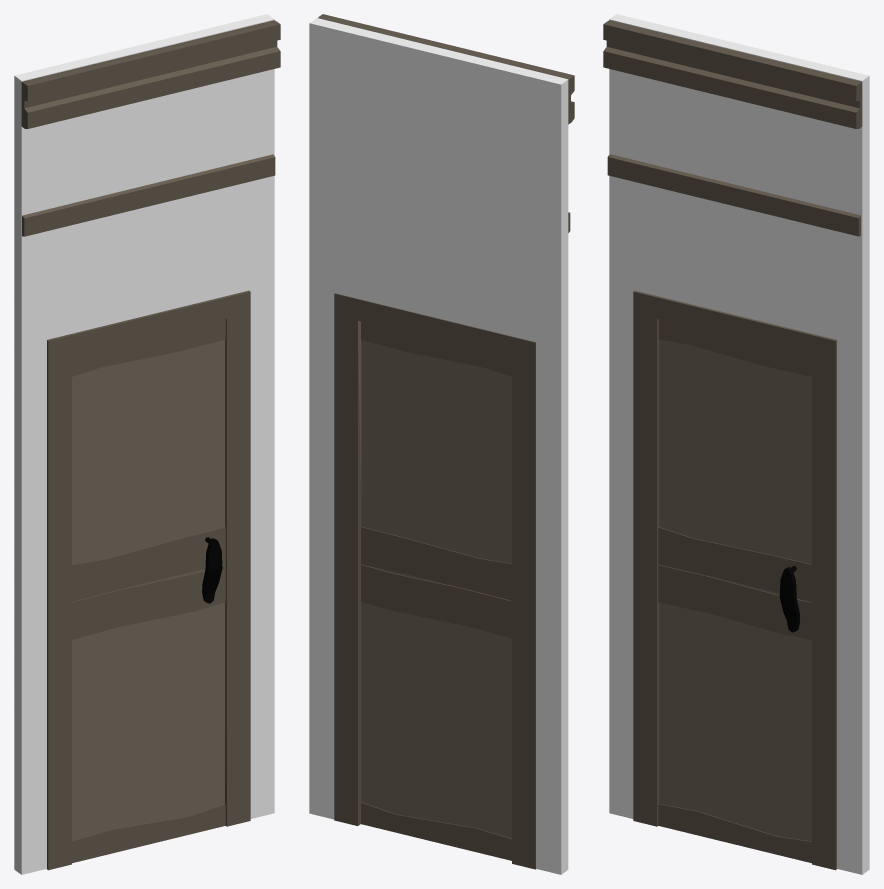
Rendered from DOOR_01_1.glb.
3 views of the same model, side by side, from view 1: azimuth 30°, elevation 25°; view 2: azimuth 150°, elevation 25°; view 3: azimuth 330°, elevation 25° (orthographic).
Visible parts, largest first — view 1: DOOR_01_1; view 2: DOOR_01_1; view 3: DOOR_01_1.
Part boxes in pixels (x1,y1,x2,y2): DOOR_01_1: (14,14,280,874); DOOR_01_1: (309,14,574,874); DOOR_01_1: (603,14,869,874).
Bounding box in the file's own units: 1 × 3 × 0.1082.
Materials: 1 (1 with a texture image).
